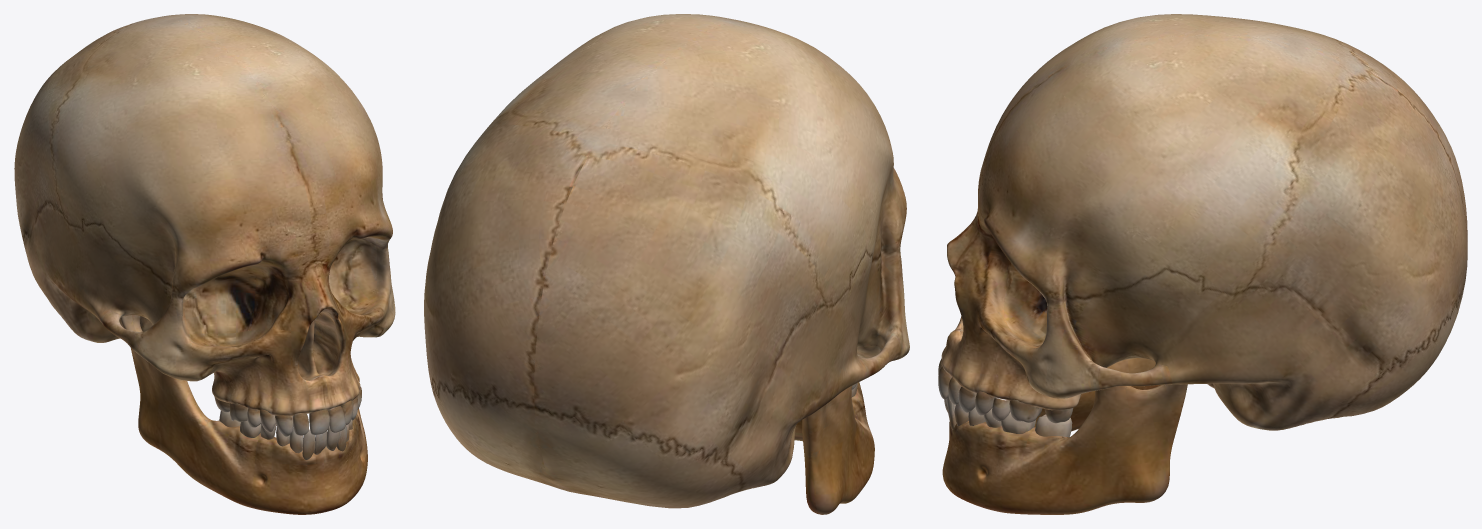
The model's file is Skull.obj.
The picture shows the model from 3 angles, left to right: view 1: azimuth 30°, elevation 25°; view 2: azimuth 150°, elevation 25°; view 3: azimuth 270°, elevation 25°; orthographic projection. The views are drawn at different scales.
Parts seen in each view (by area): view 1: 12140_Skull_v3_jaw; view 2: 12140_Skull_v3_jaw; view 3: 12140_Skull_v3_jaw.
Boxes of the visible parts, <box> form: 12140_Skull_v3_jaw: <box>14,14,395,514</box>; 12140_Skull_v3_jaw: <box>424,14,909,514</box>; 12140_Skull_v3_jaw: <box>938,14,1467,514</box>.
Bounding box in the file's own units: 1.31 × 1.82 × 1.94.
1 material, 1 textured.
